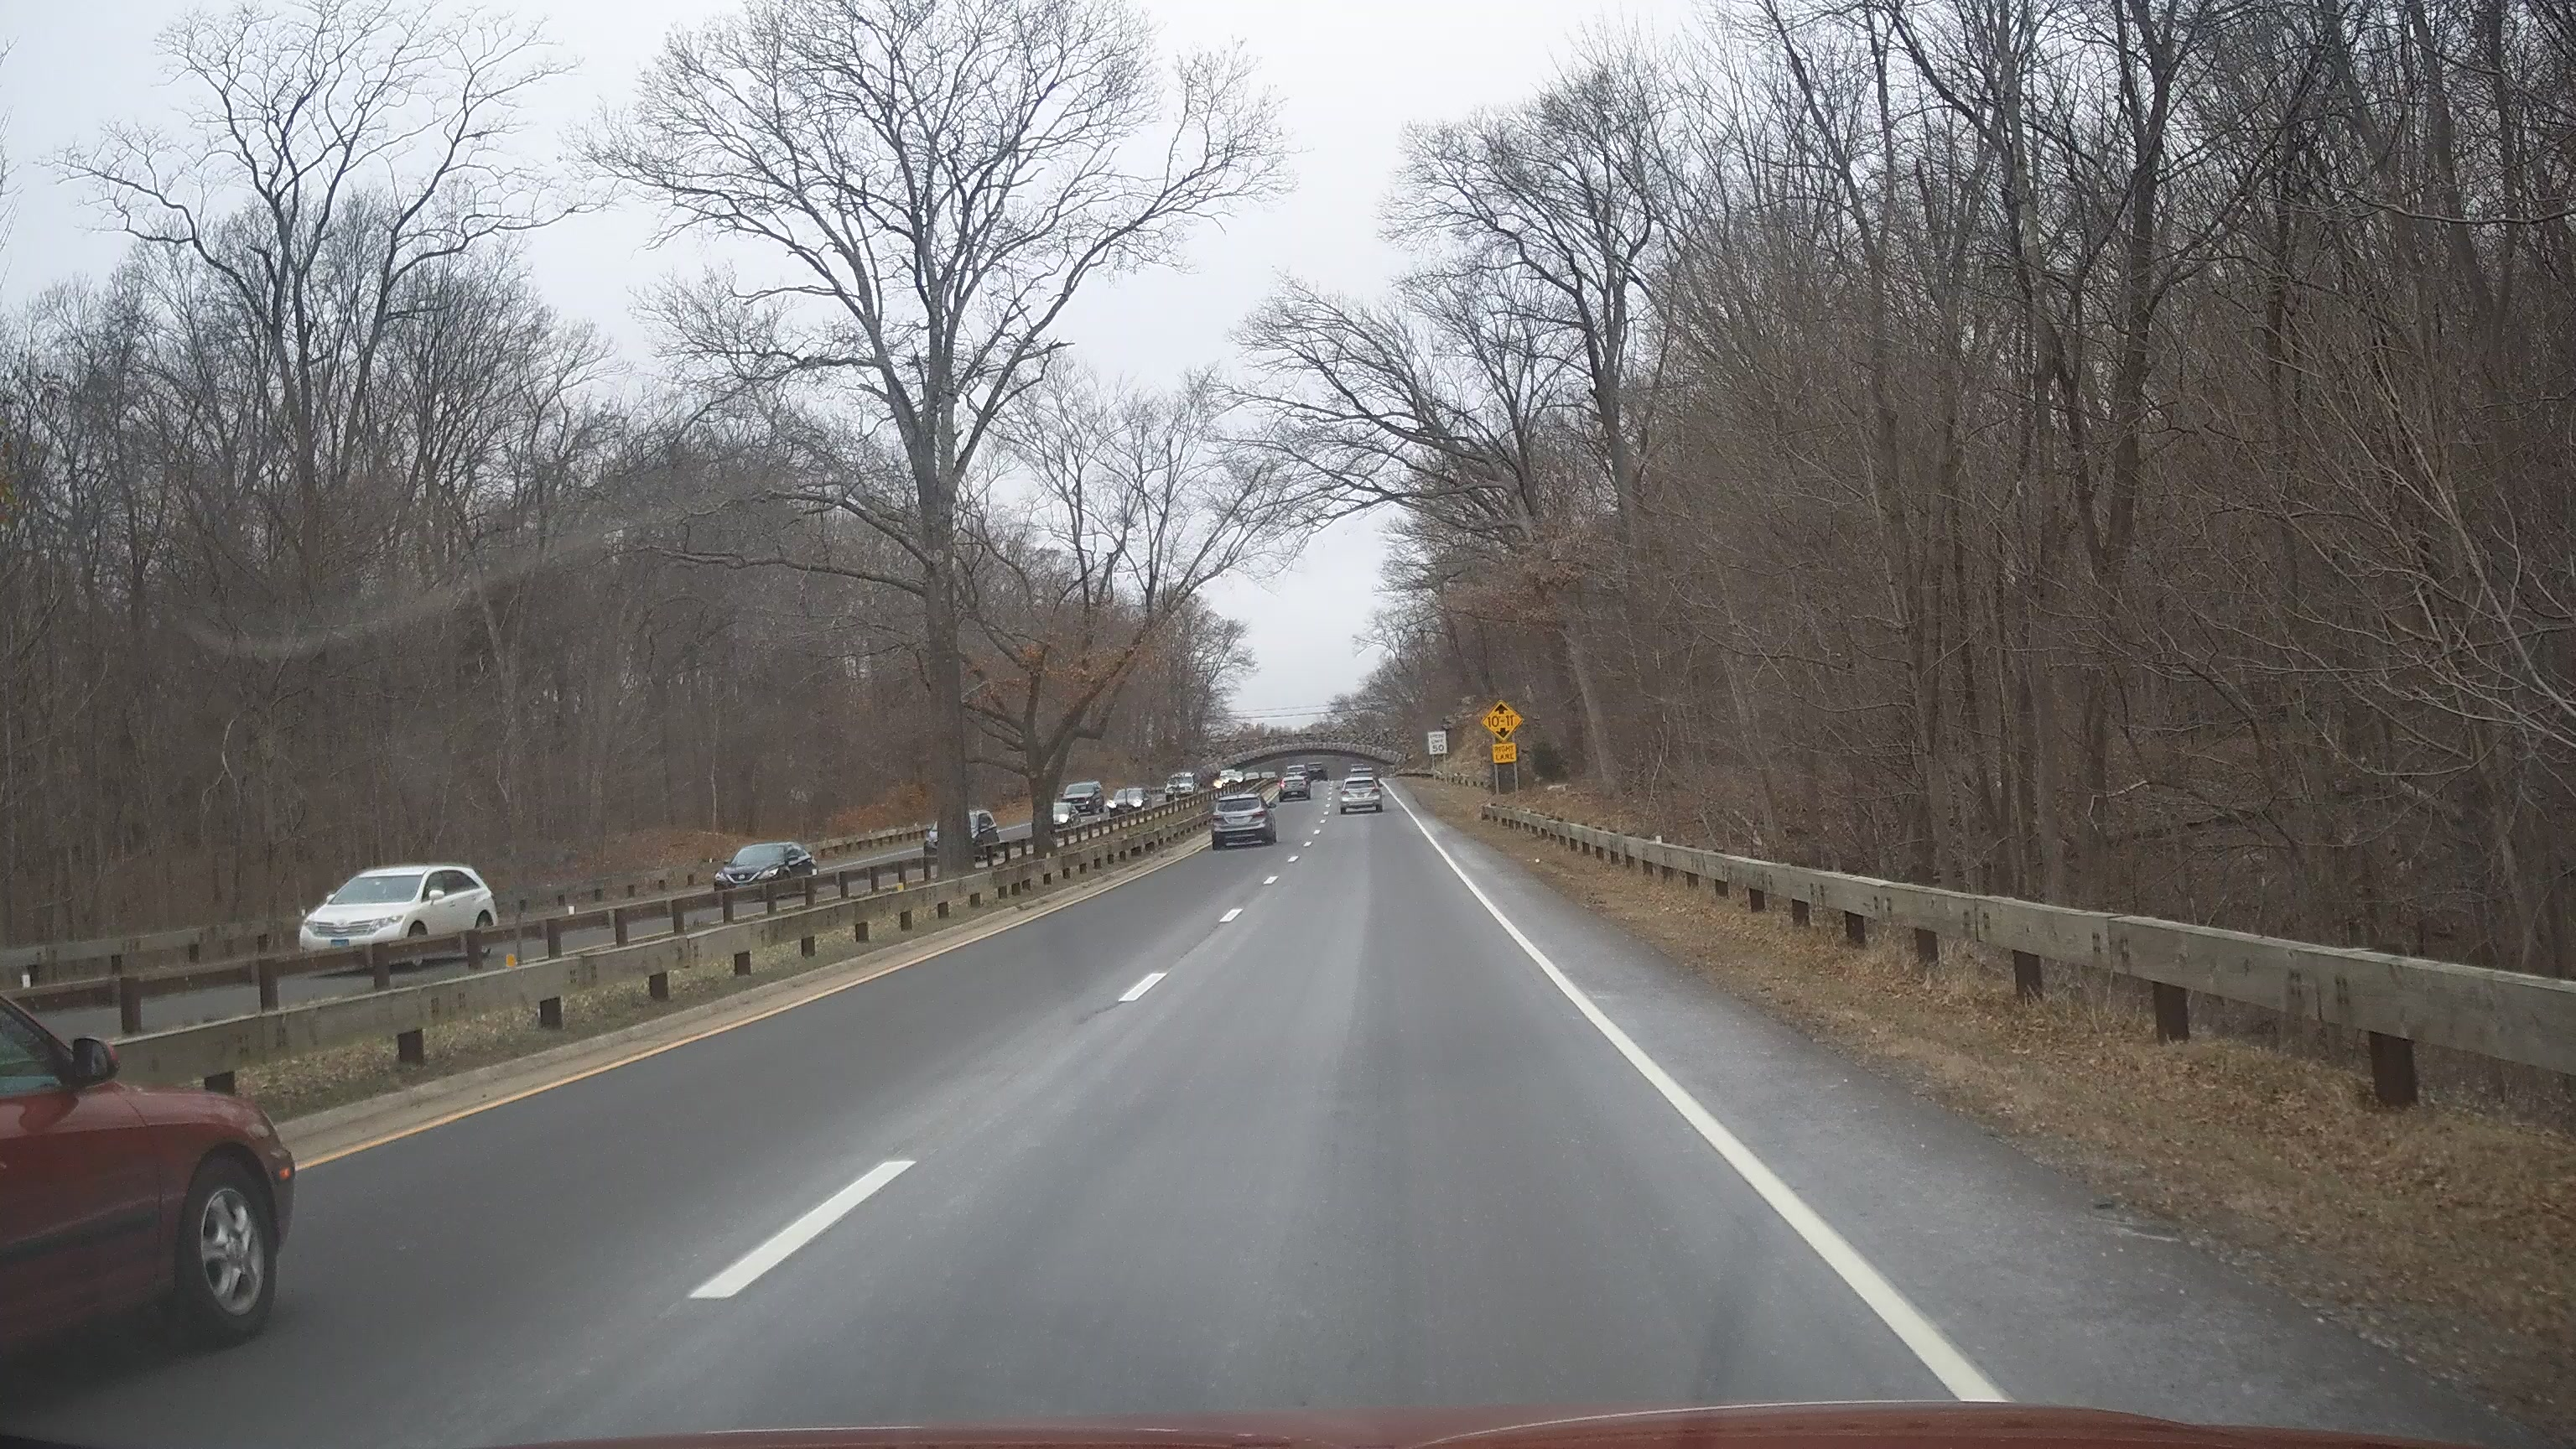low-clearance-sign: (1481, 699, 1525, 743)
